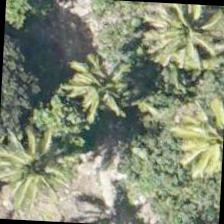Kelapa_Sawit: (46, 41, 140, 136), (0, 120, 82, 215), (133, 1, 223, 72)
